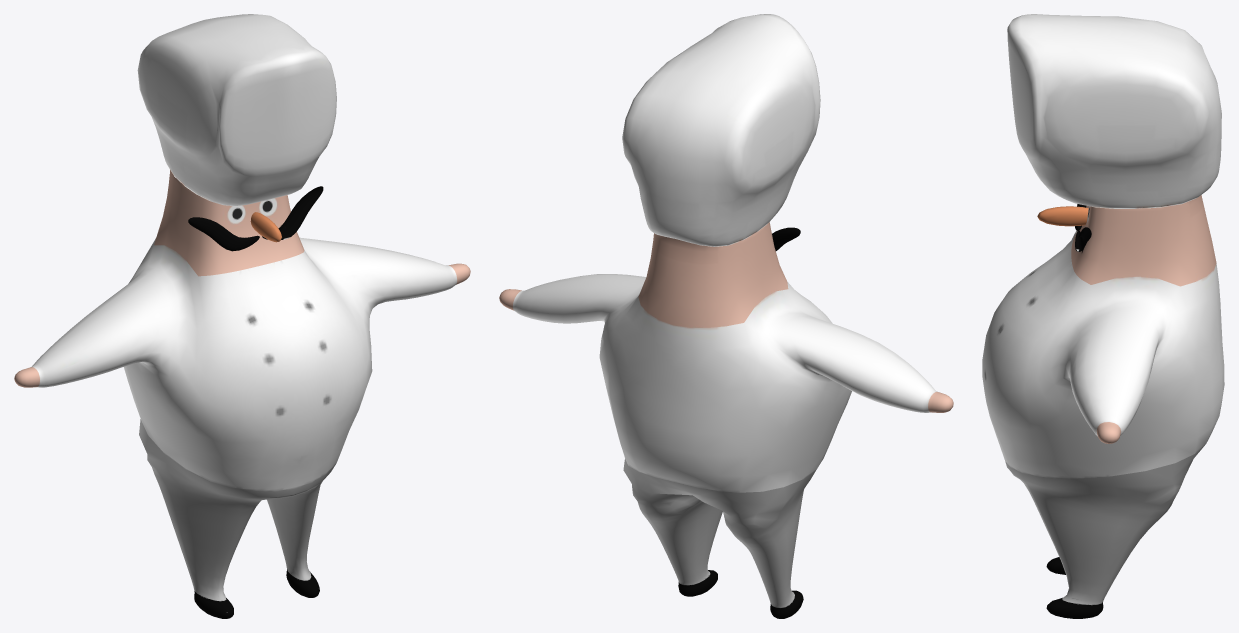
The model's file is chef_character.glb.
The picture shows the model from 3 angles, left to right: view 1: azimuth 30°, elevation 25°; view 2: azimuth 150°, elevation 25°; view 3: azimuth 270°, elevation 25°; orthographic projection.
Visible parts, largest first — view 1: chef-mesh; view 2: chef-mesh; view 3: chef-mesh.
Part boxes in pixels (left/top/right/bottom): chef-mesh: left=14, top=14, right=470, bottom=618; chef-mesh: left=499, top=14, right=953, bottom=618; chef-mesh: left=982, top=14, right=1224, bottom=618.
Size of the model in its own units: 1.67 by 2 by 0.7659.
1 material, 1 textured.
